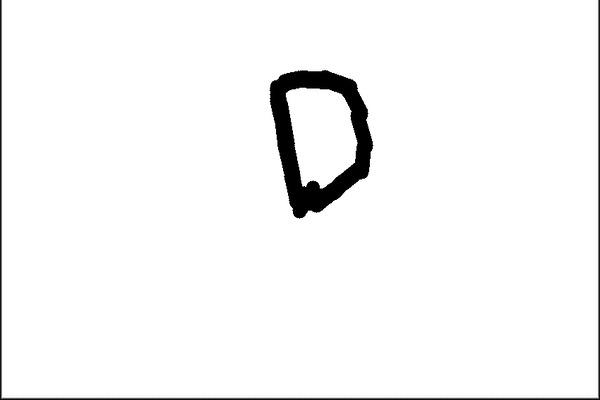D: (261, 65, 378, 223)
